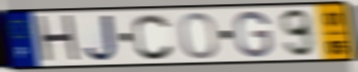9: (278, 8, 318, 59)
C: (131, 12, 176, 62)
G: (233, 10, 274, 59)
H: (33, 13, 84, 66)
J: (83, 13, 120, 64)
O: (177, 11, 220, 61)
